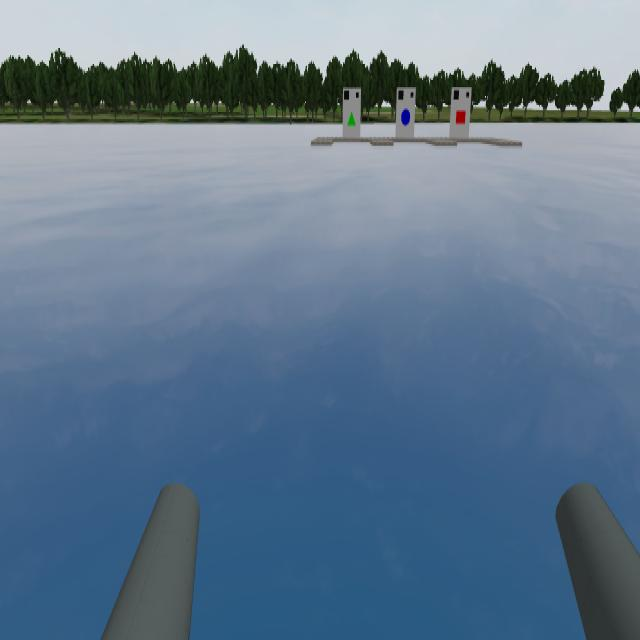dock: (452, 89, 472, 140), (343, 90, 361, 142), (396, 88, 414, 140)
